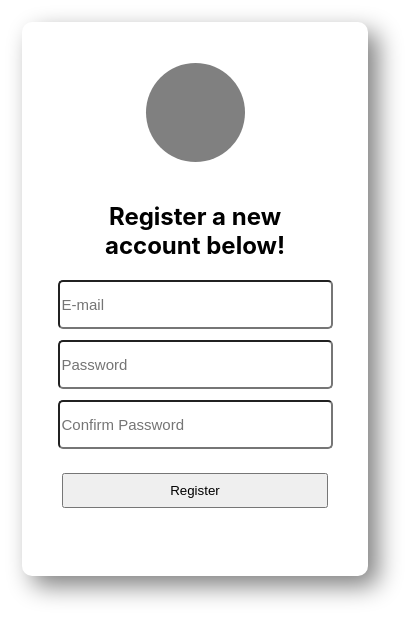
Test: Register component functionality › Rejects non-macthing passwords
The width and height of the screenshot is (411, 619).
Step 1. Type "JohnDoe@JDmail.com" into the field with test id "email" → [196, 305], box [58,280,333,329]
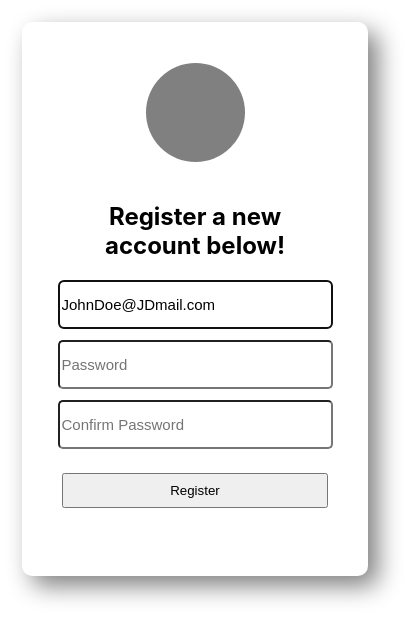
Step 2. Type "123456" into the field with test id "password" → [196, 365], box [58,340,333,389]
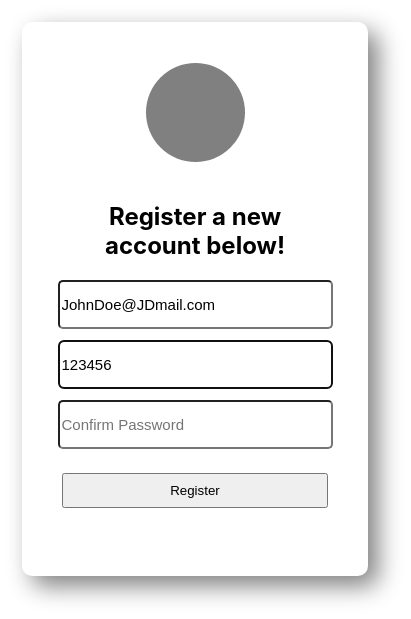
Step 3. Type "234567" into the field with test id "confirmpassword" → [196, 425], box [58,400,333,449]
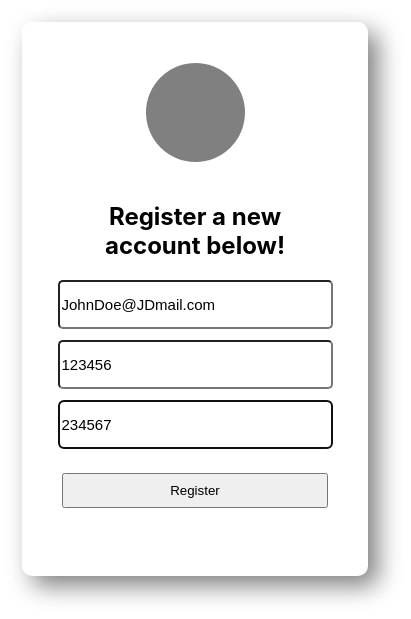
Step 4. Click the button with test id "register-button" → [195, 491], box [62,473,328,508]
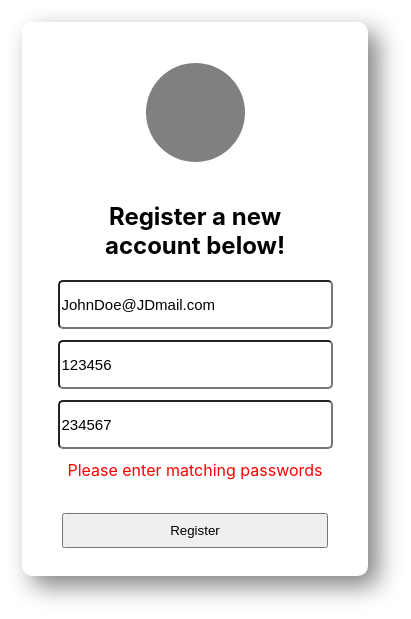
Check: the text "Please enter matching passwords" is shown, box [68,460,323,480]
